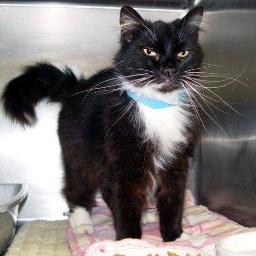cat: (3, 6, 206, 247)
